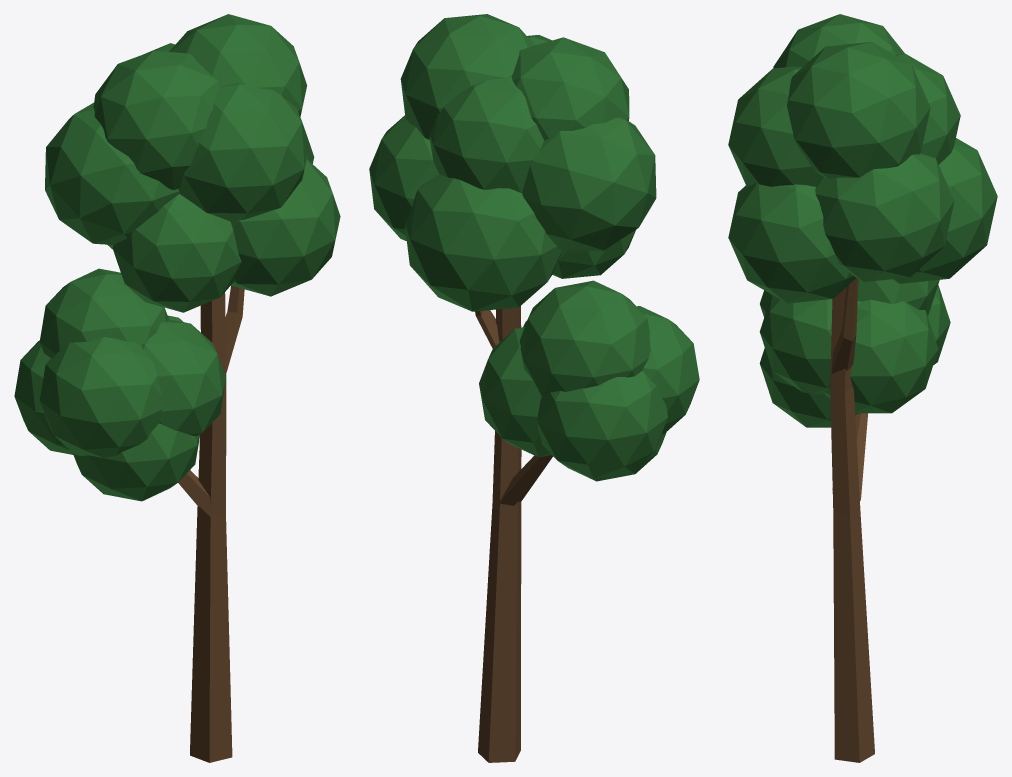
File: tree.glb
3 views of the same model, side by side, from view 1: azimuth 30°, elevation 25°; view 2: azimuth 150°, elevation 25°; view 3: azimuth 270°, elevation 25° (orthographic).
Parts seen in each view (by area): view 1: tree; view 2: tree; view 3: tree.
Boxes of the visible parts, x1,y1,x2,y2 form: tree: (14,14,340,762); tree: (369,14,699,762); tree: (728,14,997,762).
Size of the model in its own units: 3.03 by 7.52 by 2.56.
1 material, 1 textured.
